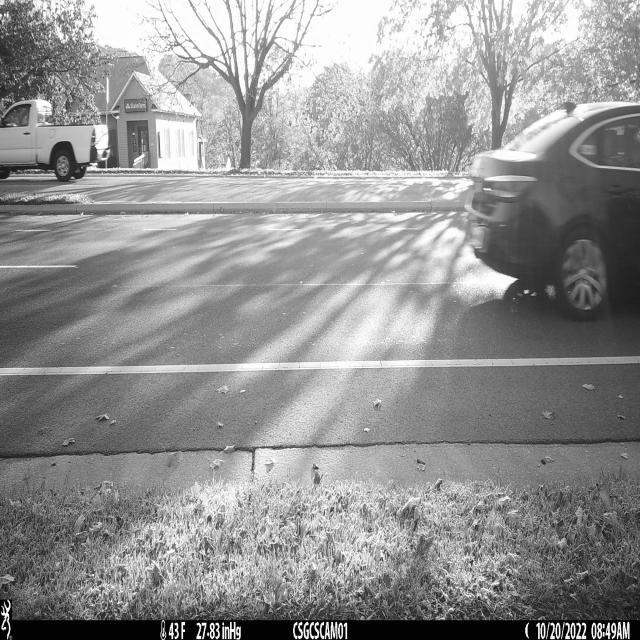Pickup: (0, 98, 110, 182)
